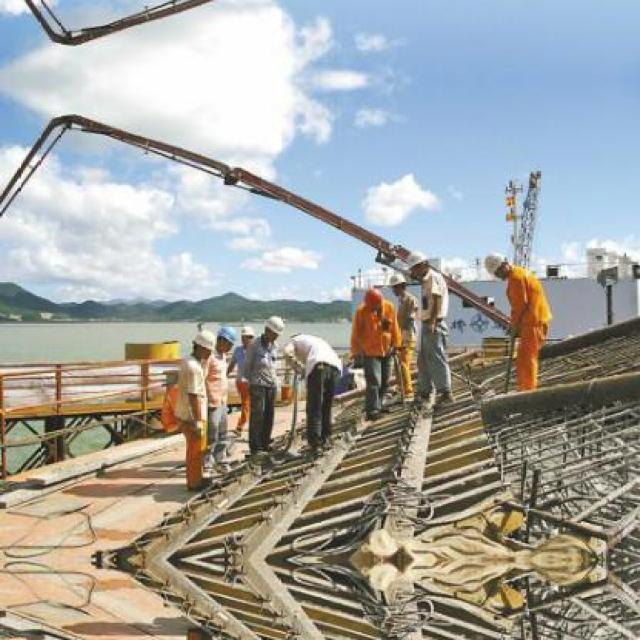helmet: (477, 248, 511, 281), (188, 325, 214, 361), (400, 248, 428, 276), (260, 312, 286, 340), (359, 282, 383, 312), (214, 322, 235, 356), (386, 271, 408, 295), (240, 323, 258, 348)
